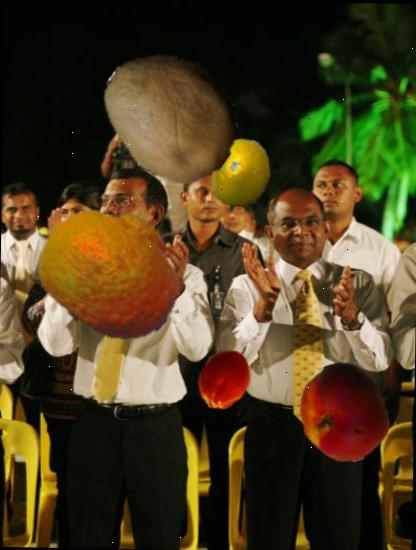Mandarine: (36, 197, 188, 348)
Maracuja: (204, 137, 278, 212)
Nectarine: (291, 362, 394, 464)
Papaya: (98, 42, 243, 188)
Tomato: (192, 347, 256, 411)
